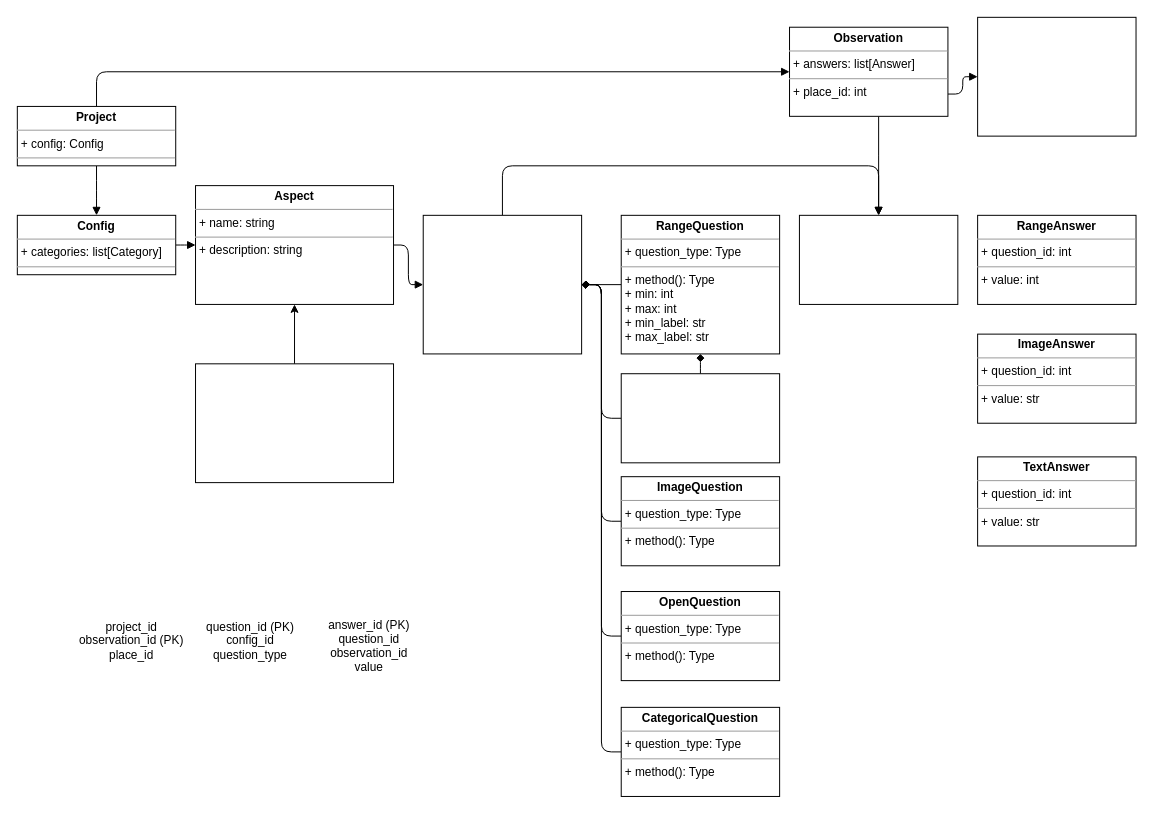
The diagram is 1153 pixels wide and 814 high, and some of its shapes have lost their labels. The shapes that lost their labels are listed below. From the top down, each one's centre as x and y in pixels, then its label:
pixel 1056 76: Place + lat: float + lon: float + id: int
pixel 878 259: Answer + question_id: int + value: Type
pixel 502 284: Question + question_type: int + value: string + level: int
pixel 294 423: AspectRelation + parent_id: int + child_id: int + config_id
pixel 700 418: BoolQuestion + question_type: Type + method(): Type
